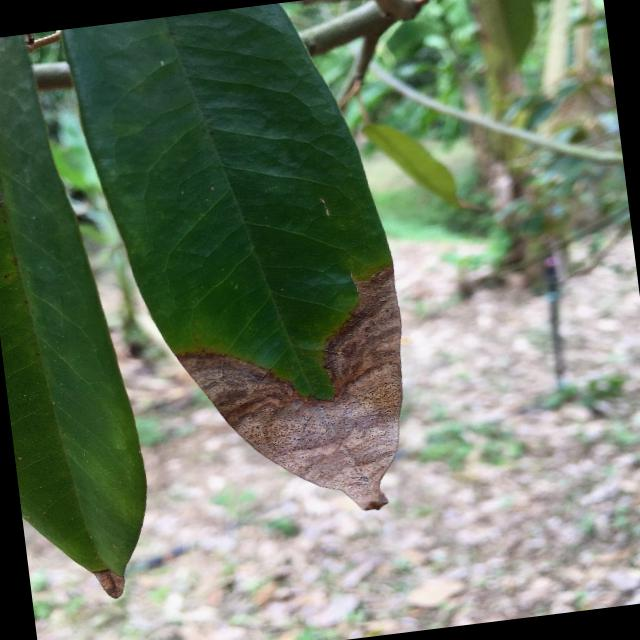Leaf Blight: (53, 0, 430, 554)
